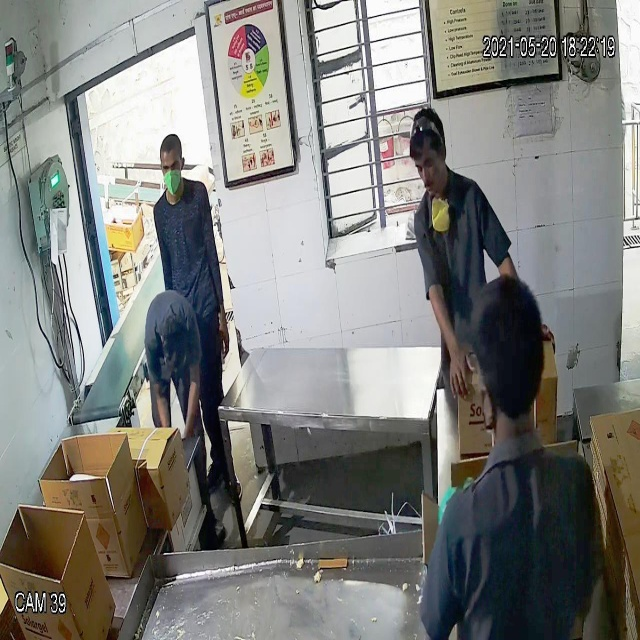Sin_gafas: (408, 150, 442, 175), (158, 156, 187, 175)
